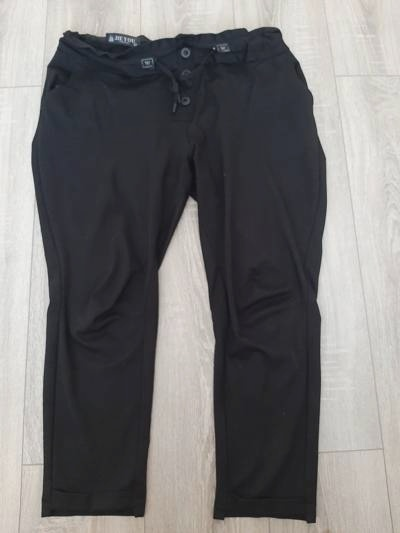Pants: (20, 18, 350, 514)
